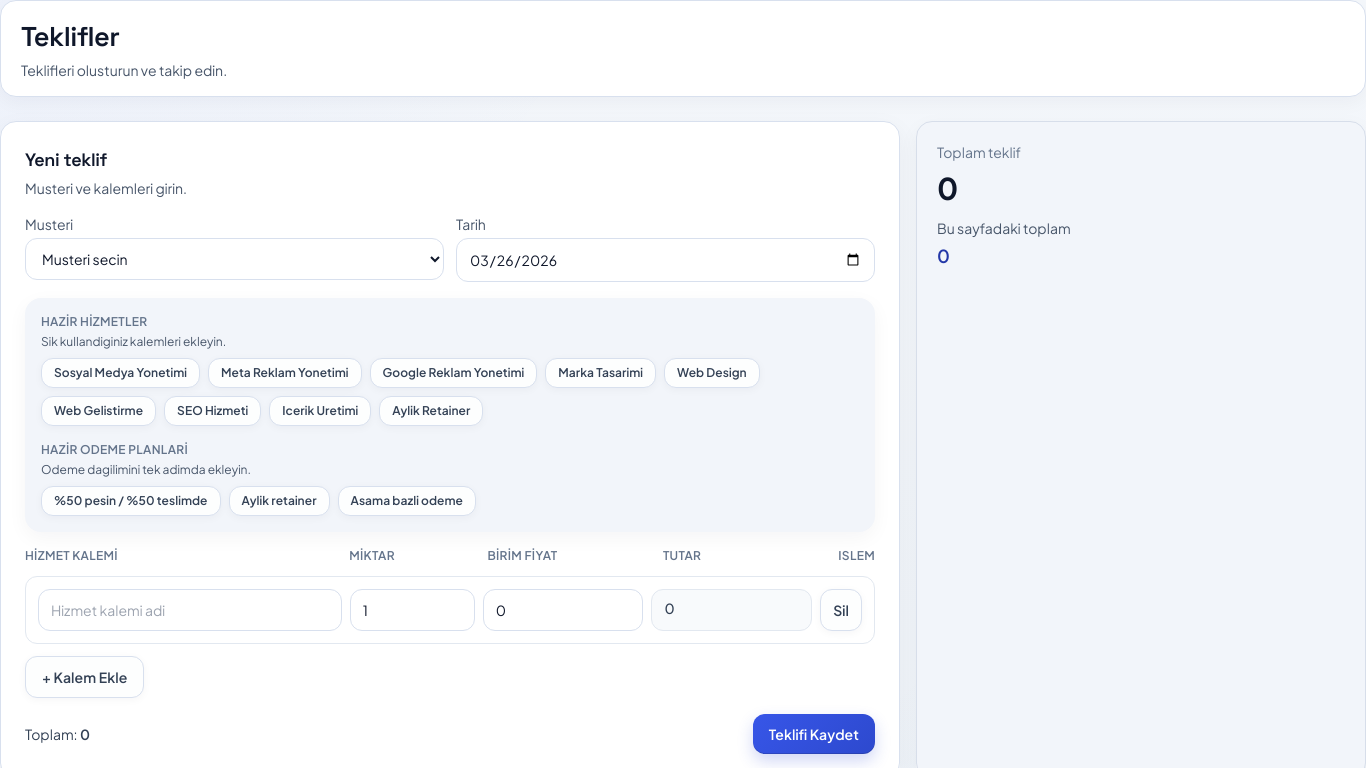
Test: QuotesPage › shows validation error when item name is empty
Select "Acar Insaat" in the dropdown at [234, 259], box [25, 238, 444, 280]
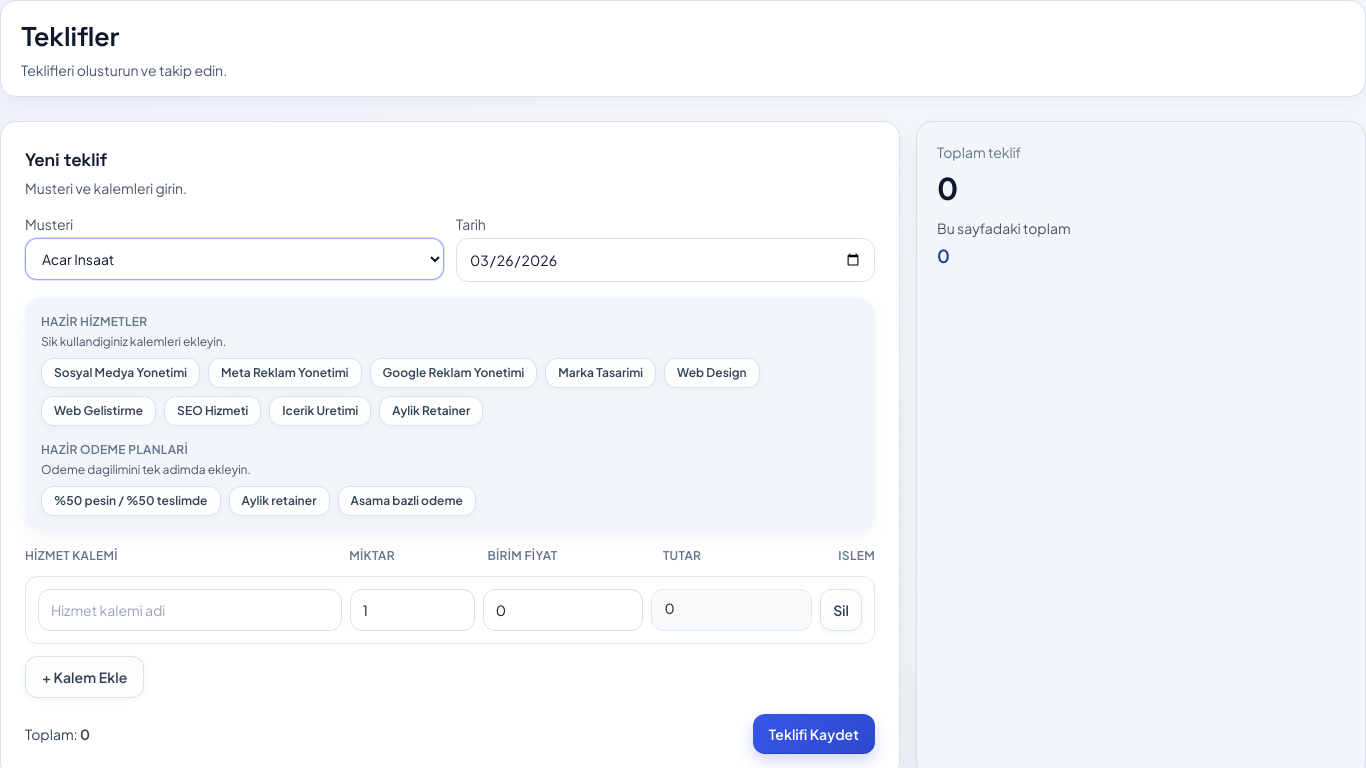
Click the button "Teklifi Kaydet".
click(814, 734)  # box [753, 714, 875, 754]
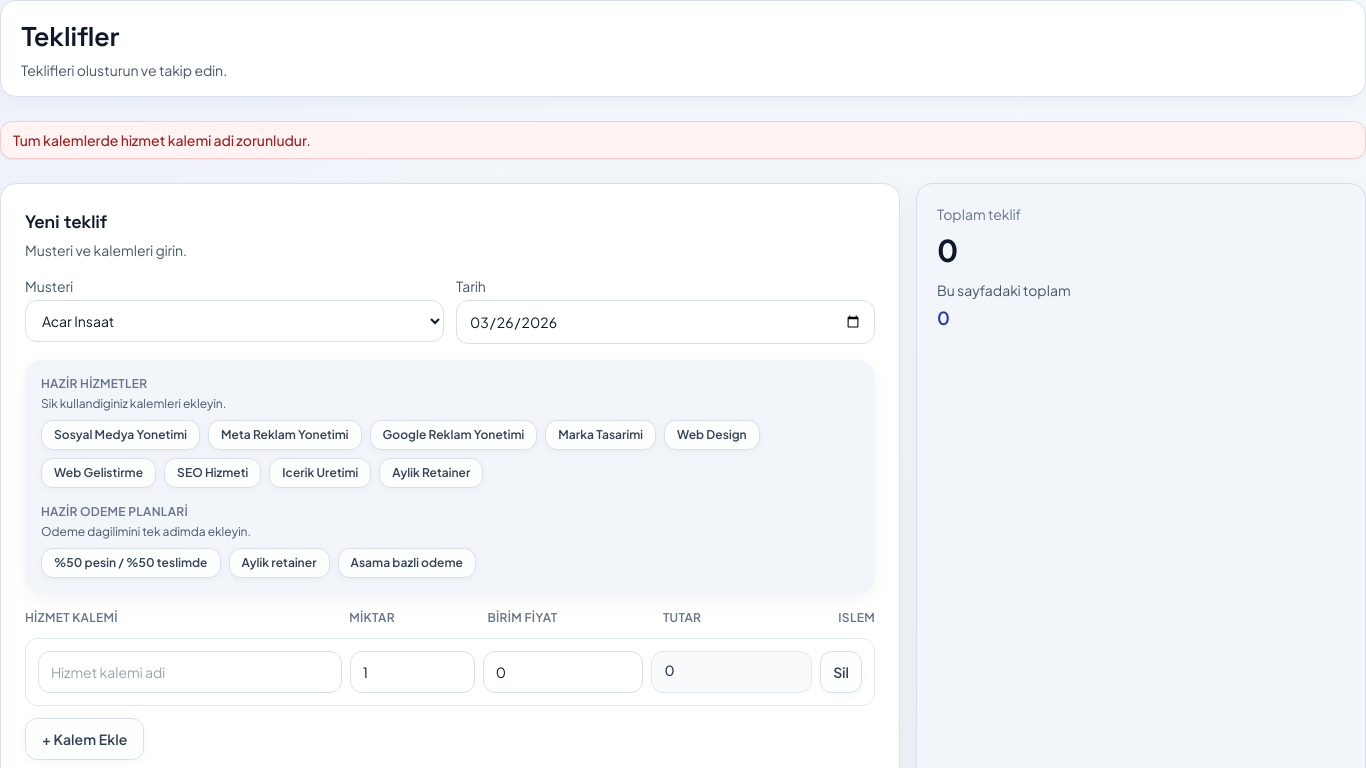
Now the text "Tum kalemlerde hizmet kalemi adi zorunludur." is shown, box [0, 121, 1365, 159]
